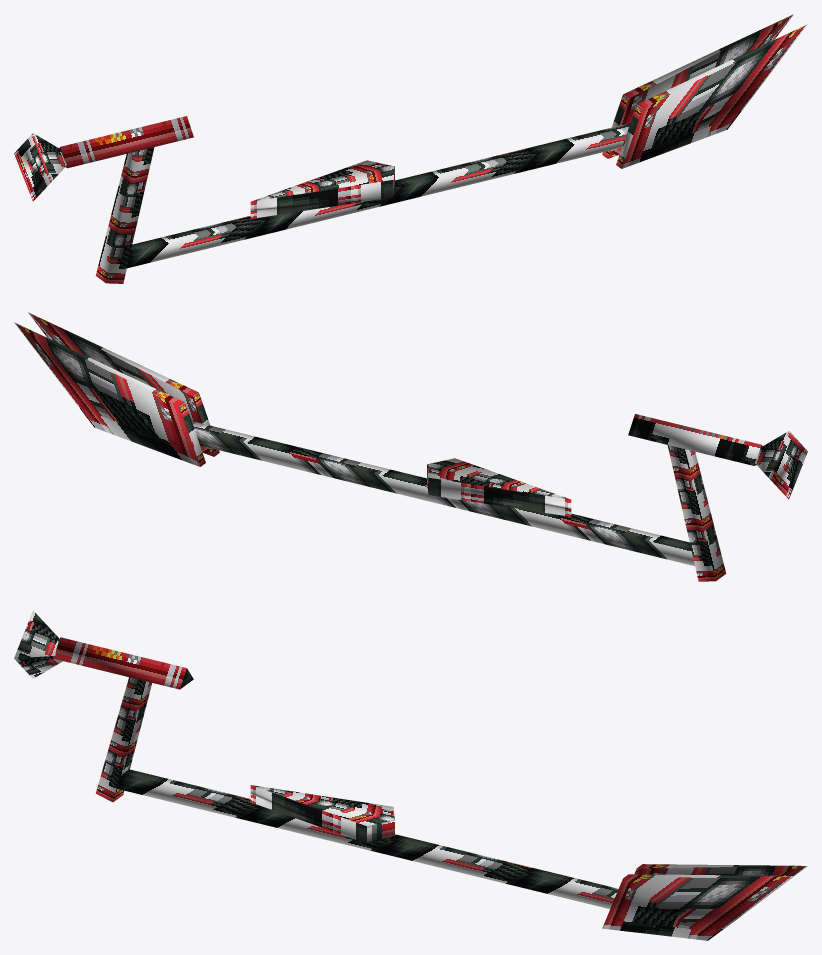
The model's file is 1325sbim03_08_c.gltf.
3 renders of one model, top to bottom at view 1: azimuth 30°, elevation 25°; view 2: azimuth 150°, elevation 25°; view 3: azimuth 330°, elevation 25°, orthographic.
Visible parts, largest first — view 1: 1325sbim03_08_c; view 2: 1325sbim03_08_c; view 3: 1325sbim03_08_c.
Part boxes in pixels (x1,y1,x2,y2): 1325sbim03_08_c: (14, 14, 807, 283); 1325sbim03_08_c: (14, 312, 807, 581); 1325sbim03_08_c: (14, 610, 807, 940).
Bounding box in the file's own units: 2.04 × 0.4312 × 0.1748.
1 material, 1 textured.
